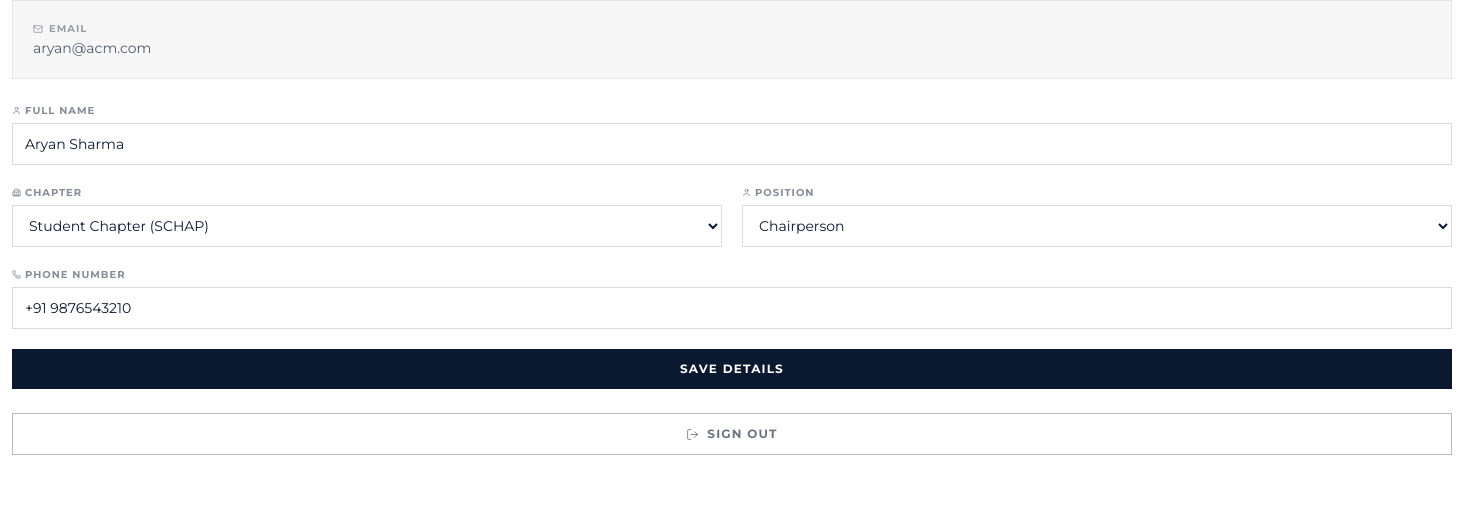
Test: ProfileForm Component › Chaos Responses › should show an error banner when supabase update returns an error
The width and height of the screenshot is (1464, 530).
Click the button "Save Details" at (732,369), box [12,349,1452,389]
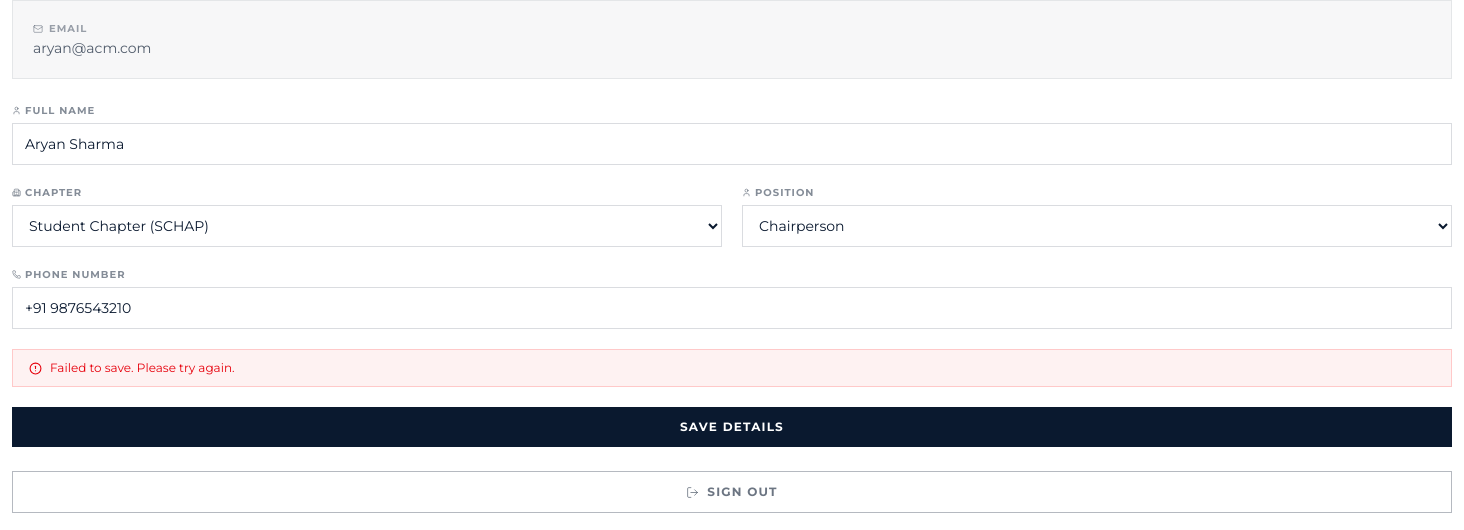
Expected: the text "Failed to save. Please try again." is shown, [12,349,1452,387]
